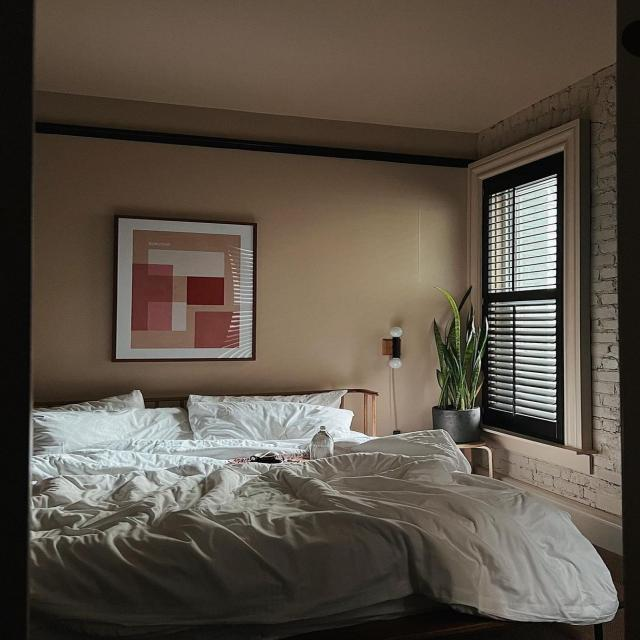bed: (0, 383, 626, 640)
